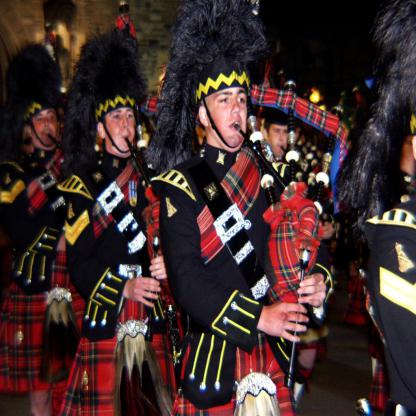face: (210, 63, 248, 151), (104, 94, 138, 155), (33, 100, 60, 150), (270, 115, 291, 160)
